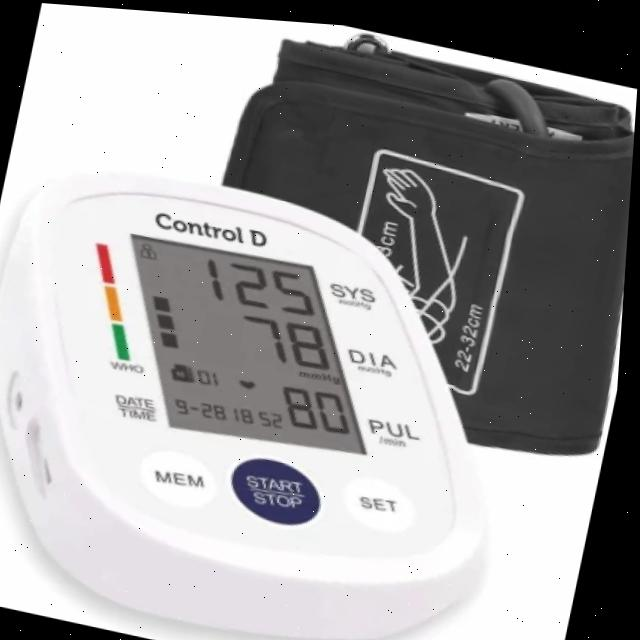dia: (232, 306, 347, 368)
pul: (270, 368, 371, 435)
ssd: (104, 230, 404, 460)
sys: (188, 242, 345, 318)
